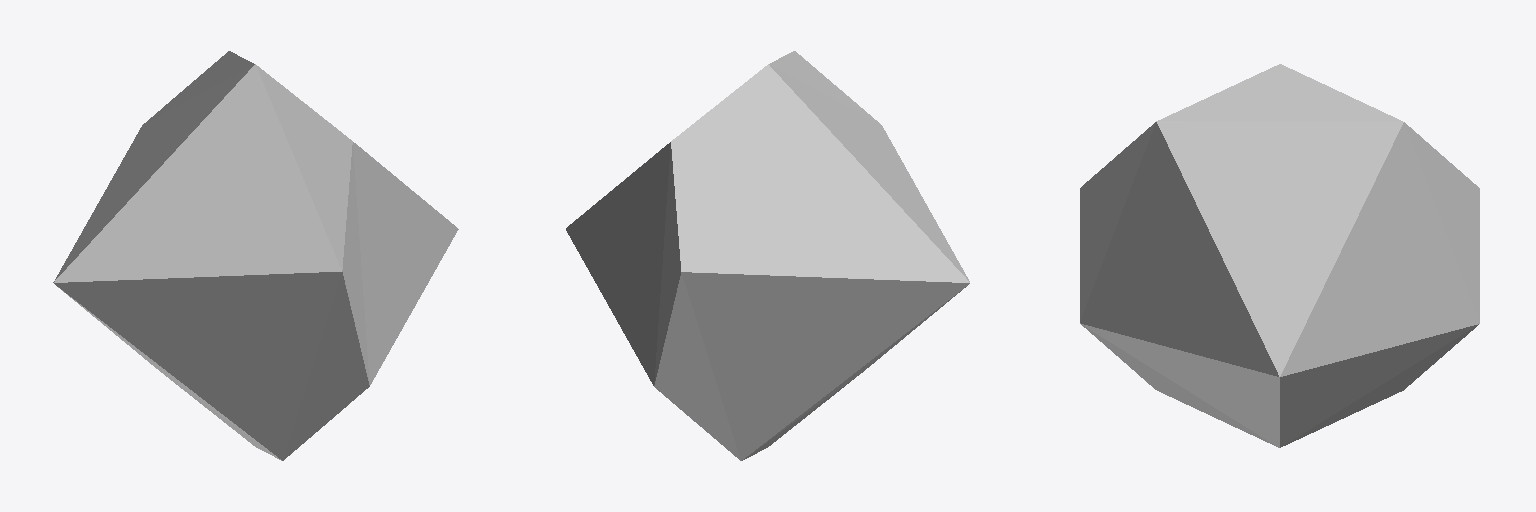
Rendered from LP-D10Collider.obj.
3 views of the same model, side by side, from view 1: azimuth 30°, elevation 25°; view 2: azimuth 150°, elevation 25°; view 3: azimuth 270°, elevation 25° (orthographic).
Visible parts, largest first — view 1: Die_Scaled_D10; view 2: Die_Scaled_D10; view 3: Die_Scaled_D10.
Part boxes in pixels (x1,y1,x2,y2): Die_Scaled_D10: (53,51,458,460); Die_Scaled_D10: (566,51,969,460); Die_Scaled_D10: (1080,64,1479,447).
Bounding box in the file's own units: 0.9506 × 0.8599 × 0.8135.